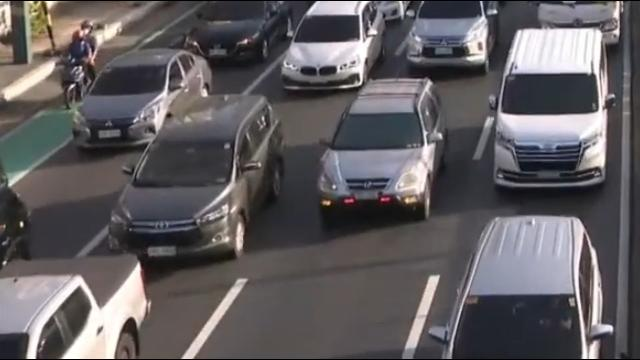car: (106, 93, 285, 266), (434, 201, 626, 360), (314, 76, 451, 223), (69, 40, 213, 155), (280, 0, 390, 92), (184, 0, 291, 70), (406, 2, 500, 75), (534, 1, 623, 47)
motorcycle: (59, 21, 102, 110)
pickup-truck: (0, 241, 164, 360)
van: (487, 25, 618, 190)
